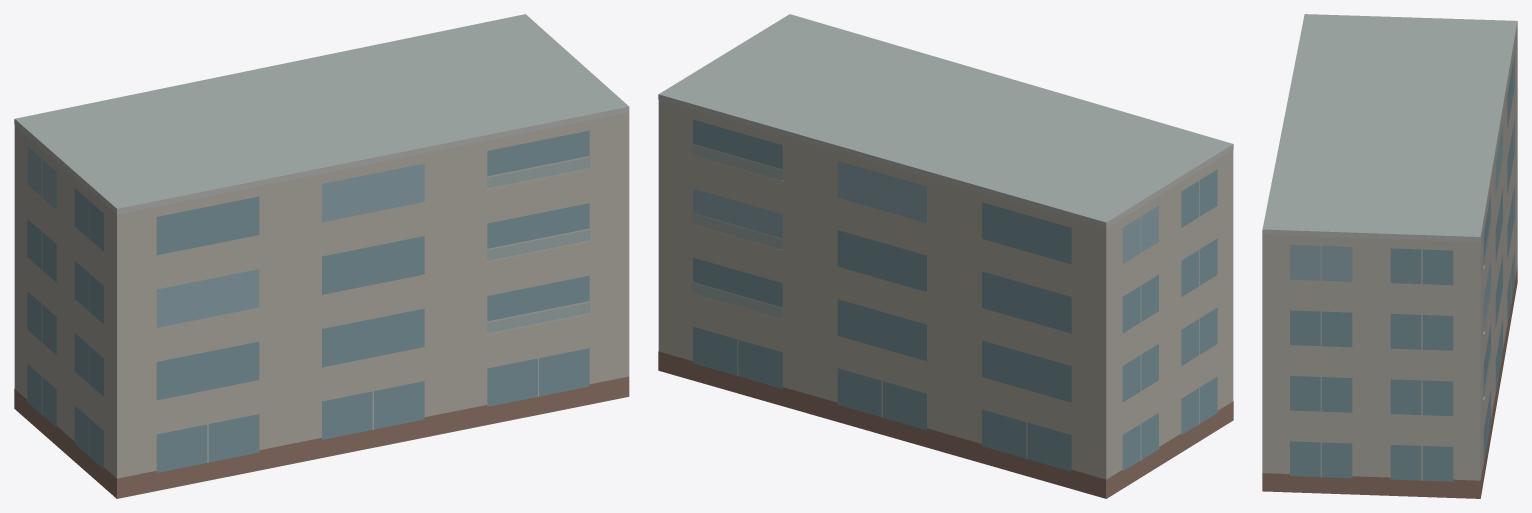
The model's file is survey-upis-33006224.glb.
3 renders of one model, left to right at view 1: azimuth 30°, elevation 25°; view 2: azimuth 150°, elevation 25°; view 3: azimuth 270°, elevation 25°, orthographic. The views are drawn at different scales.
Parts seen in each view (by area): view 1: survey-upis-33006224.tmp; view 2: survey-upis-33006224.tmp; view 3: survey-upis-33006224.tmp.
Part boxes in pixels (x1,y1,x2,y2): survey-upis-33006224.tmp: (14, 14, 629, 498); survey-upis-33006224.tmp: (658, 14, 1233, 498); survey-upis-33006224.tmp: (1262, 14, 1517, 498).
Bounding box in the file's own units: 22.29 × 12.2 × 10.78.
